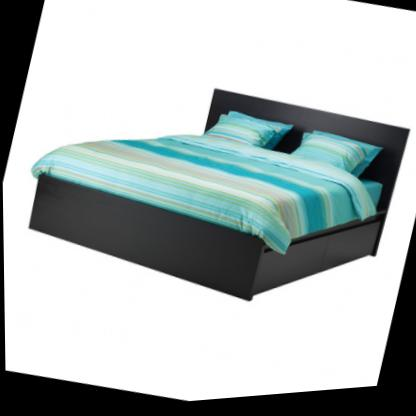Bed: (6, 36, 416, 350)
